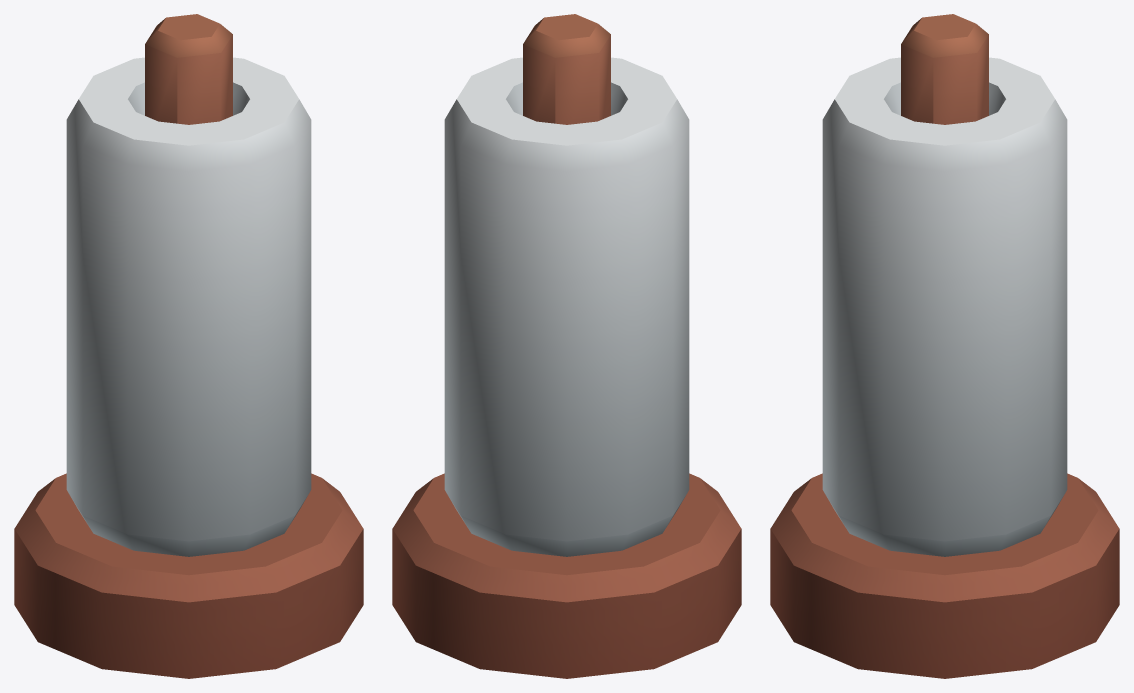
The model's file is kay-papertowel.glb.
3 renders of one model, left to right at view 1: azimuth 30°, elevation 25°; view 2: azimuth 150°, elevation 25°; view 3: azimuth 270°, elevation 25°, orthographic.
Visible parts, largest first — view 1: papertowel; view 2: papertowel; view 3: papertowel.
Part boxes in pixels (x1,y1,x2,y2): papertowel: [14, 14, 363, 678]; papertowel: [392, 14, 741, 678]; papertowel: [770, 14, 1119, 678].
Bounding box in the file's own units: 0.1204 × 0.22 × 0.1204.
Materials: 1 (1 with a texture image).
